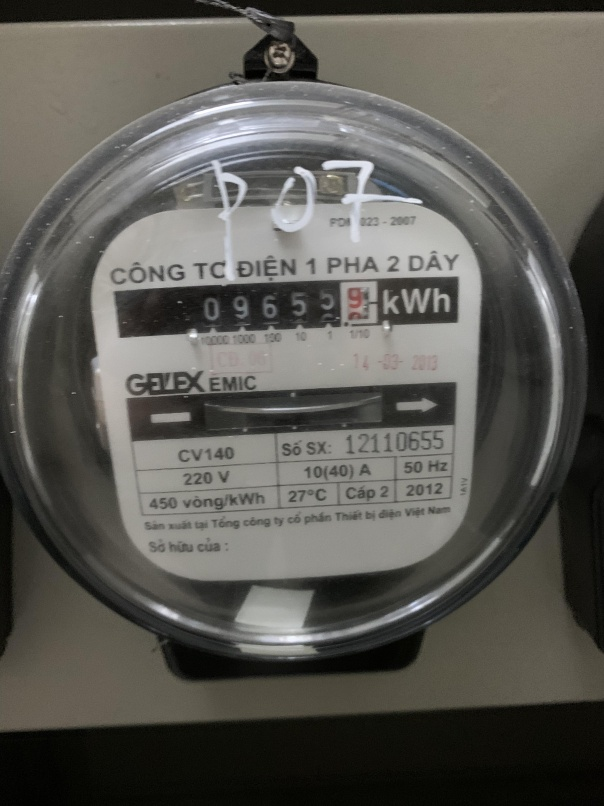counter: (113, 279, 467, 335)
electricity_meter: (1, 84, 585, 666)
